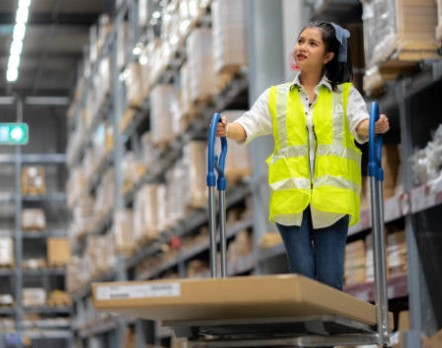worker: (268, 24, 360, 226)
